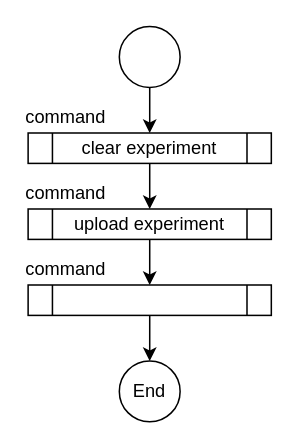
This 298x448 diagram has some shape labels left out. Here are the shapes that lost their labels. From the top down, the box of each, then its label:
(118, 25, 180, 87): Start
(27, 283, 271, 315): stimlator state change
